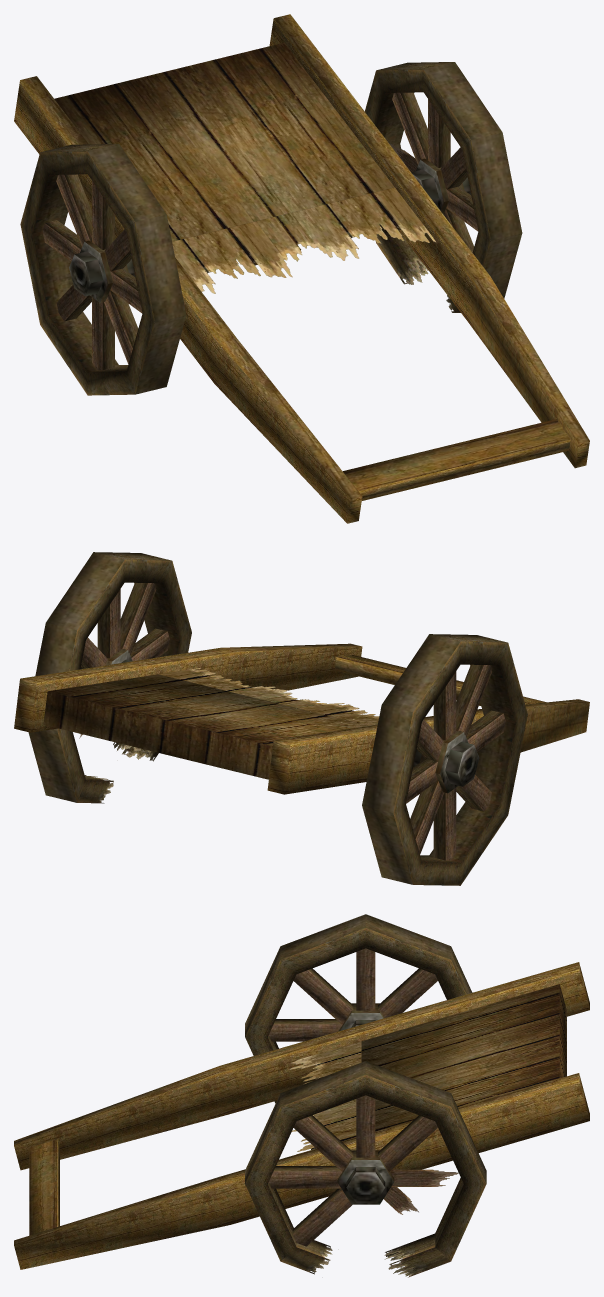
The model's file is oas_tarim_wagone.glb.
3 views of the same model, one above another, from view 1: azimuth 30°, elevation 25°; view 2: azimuth 150°, elevation 25°; view 3: azimuth 270°, elevation 25° (orthographic). The views are drawn at different scales.
Parts seen in each view (by area): view 1: Oas_tarim_wagon02_01, Oas_tarim_wagon02_02, Oas_tarim_wagon02_03; view 2: Oas_tarim_wagon02_02, Oas_tarim_wagon02_01, Oas_tarim_wagon02_03; view 3: Oas_tarim_wagon02_01, Oas_tarim_wagon02_02, Oas_tarim_wagon02_03.
Part boxes in pixels (x1,y1,x2,y2): Oas_tarim_wagon02_01: [14, 14, 589, 523]; Oas_tarim_wagon02_02: [20, 62, 522, 395]; Oas_tarim_wagon02_03: [172, 142, 460, 312]; Oas_tarim_wagon02_02: [28, 552, 527, 885]; Oas_tarim_wagon02_01: [14, 643, 589, 794]; Oas_tarim_wagon02_03: [77, 668, 379, 803]; Oas_tarim_wagon02_01: [14, 962, 589, 1269]; Oas_tarim_wagon02_02: [245, 914, 486, 1261]; Oas_tarim_wagon02_03: [281, 1041, 458, 1277].
Bounding box in the file's own units: 2.42 × 1.5 × 3.52.
3 materials, 3 textured.
